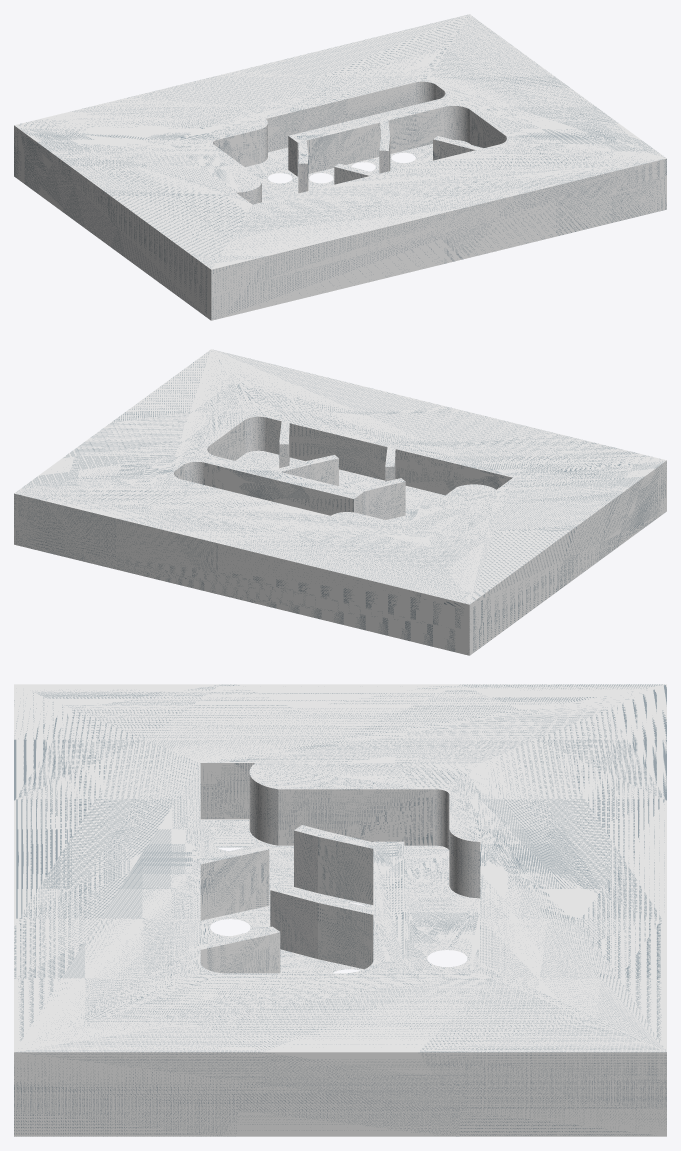
File: Level 1 (dae).dae
3 renders of one model, top to bottom at view 1: azimuth 30°, elevation 25°; view 2: azimuth 150°, elevation 25°; view 3: azimuth 270°, elevation 25°, orthographic. The views are drawn at different scales.
Parts seen in each view (by area): view 1: SketchUp (×2); view 2: SketchUp (×2); view 3: SketchUp (×2).
Boxes of the visible parts, box(x1,y1,x2,y2) form: SketchUp (×2): box(14, 14, 666, 320); SketchUp (×2): box(14, 349, 666, 655); SketchUp (×2): box(14, 684, 666, 1136).
Size of the model in its own units: 1102 by 827 by 118.
